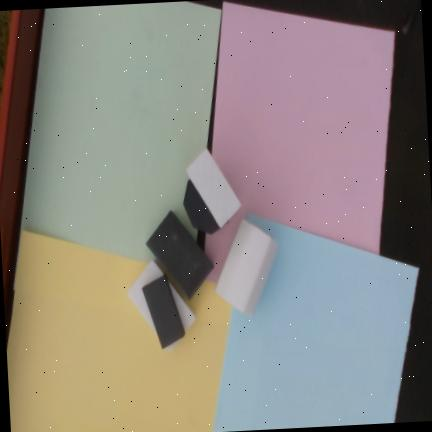Paralelepipedo: (126, 259, 196, 353), (145, 209, 214, 301), (185, 148, 242, 229), (142, 275, 185, 350)
Prisma_hexagonal: (214, 218, 280, 317), (183, 179, 229, 235)
